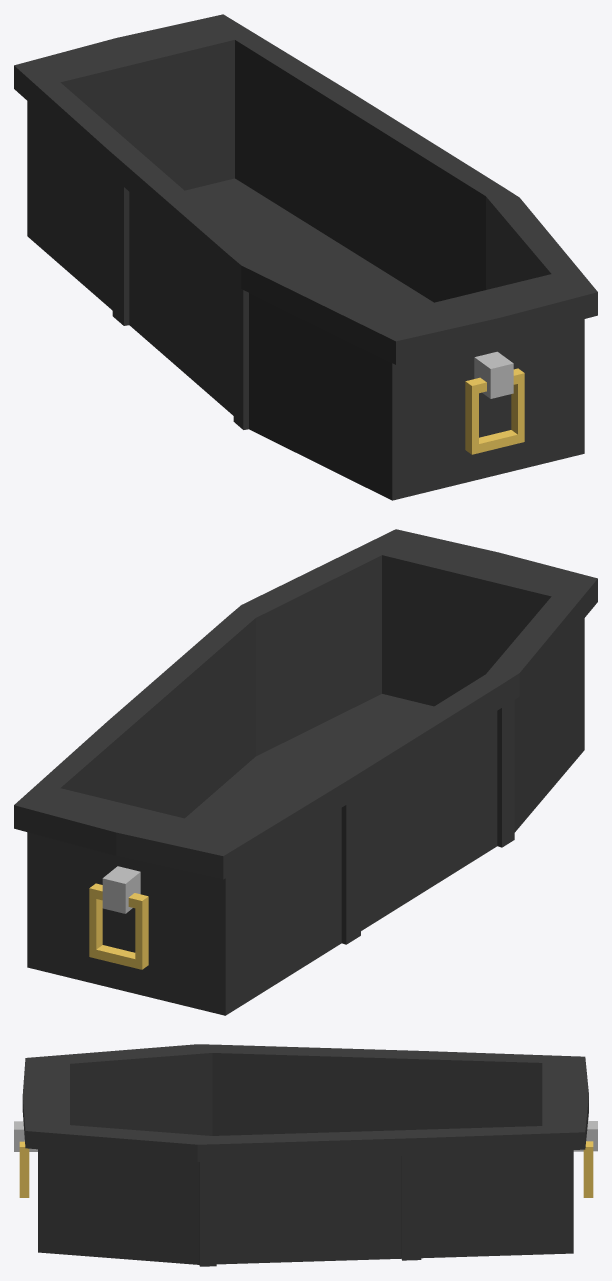
File: coffinCar.dae
The picture shows the model from 3 angles, top to bottom: view 1: azimuth 30°, elevation 25°; view 2: azimuth 150°, elevation 25°; view 3: azimuth 270°, elevation 25°; orthographic projection. The views are drawn at different scales.
Parts seen in each view (by area): view 1: CubeFBXASC046001; view 2: CubeFBXASC046001; view 3: CubeFBXASC046001.
Boxes of the visible parts, <box> form: CubeFBXASC046001: <box>14,14,597,500</box>; CubeFBXASC046001: <box>14,529,597,1015</box>; CubeFBXASC046001: <box>14,1044,597,1266</box>.
Size of the model in its own units: 129 by 74.08 by 318.
Materials: 1 (1 with a texture image).
